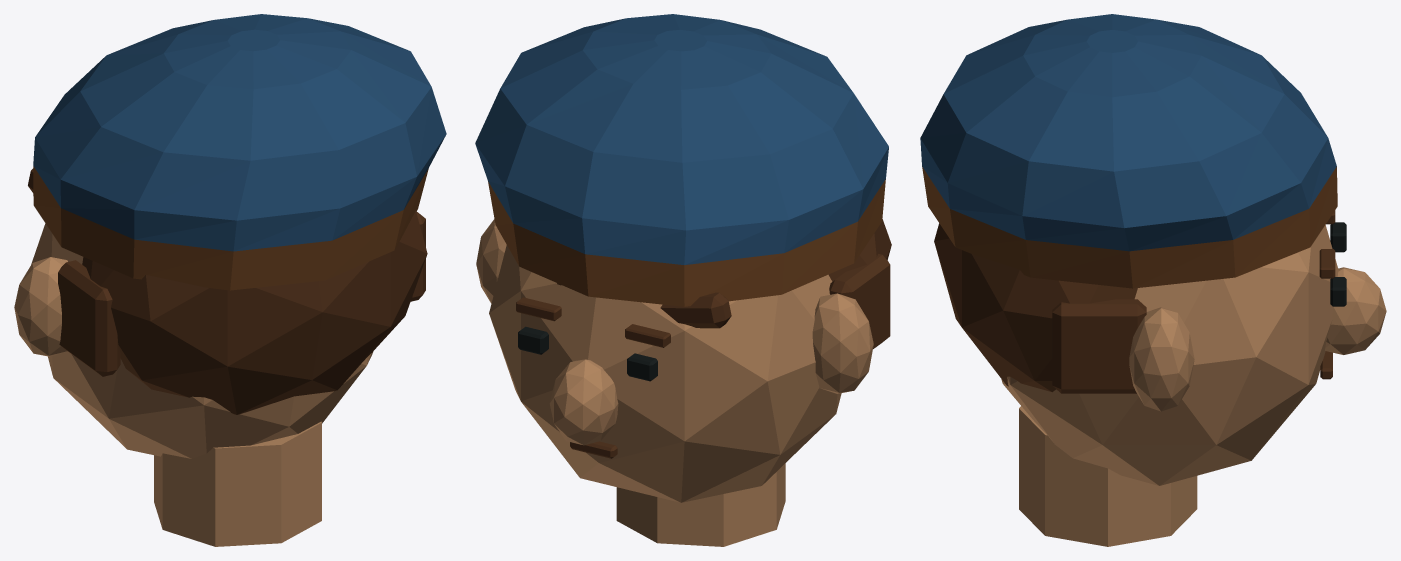
The model's file is Head.glb.
3 views of the same model, side by side, from view 1: azimuth 30°, elevation 25°; view 2: azimuth 150°, elevation 25°; view 3: azimuth 270°, elevation 25° (orthographic). The views are drawn at different scales.
Visible parts, largest first — view 1: Sculpture; view 2: Sculpture; view 3: Sculpture.
Boxes of the visible parts, x1=… form: Sculpture: x1=14, y1=14, x2=446, y2=546; Sculpture: x1=475, y1=14, x2=891, y2=546; Sculpture: x1=920, y1=14, x2=1386, y2=546.
Bounding box in the file's own units: 0.536 × 0.614 × 0.544.
